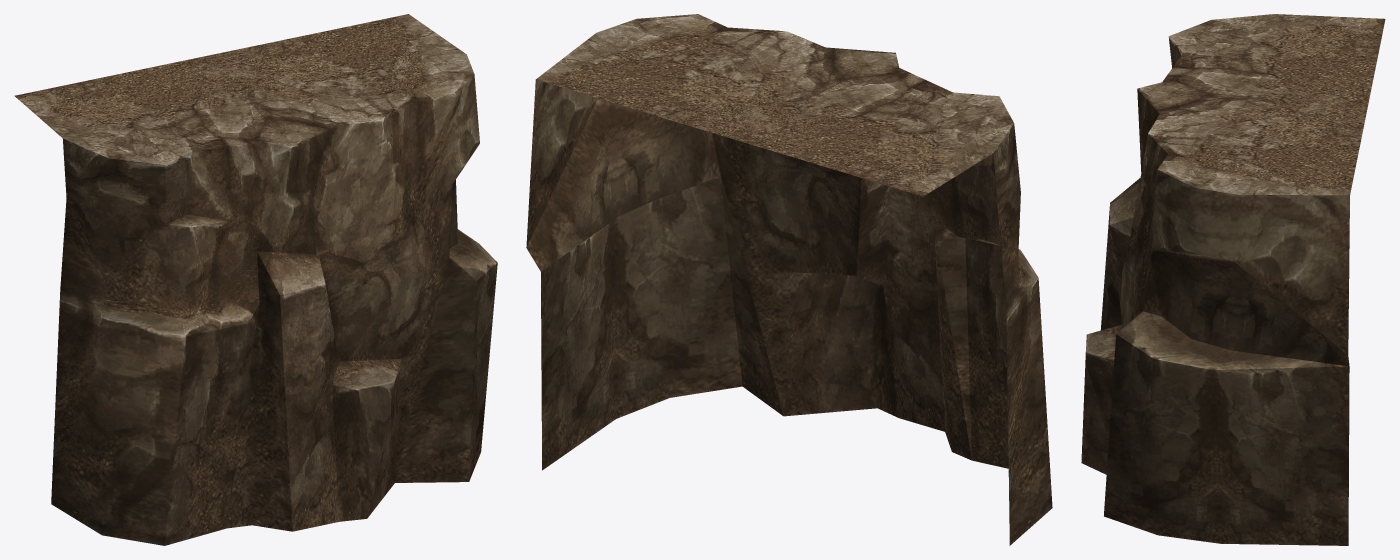
Rendered from SC_tamalagebi_shitou03.FBX.
3 views of the same model, side by side, from view 1: azimuth 30°, elevation 25°; view 2: azimuth 150°, elevation 25°; view 3: azimuth 270°, elevation 25° (orthographic). The views are drawn at different scales.
Parts seen in each view (by area): view 1: SC_tamalagebi_shitou03; view 2: SC_tamalagebi_shitou03; view 3: SC_tamalagebi_shitou03.
Part boxes in pixels (left/top/right/bottom): SC_tamalagebi_shitou03: left=14, top=14, right=497, bottom=545; SC_tamalagebi_shitou03: left=526, top=14, right=1052, bottom=545; SC_tamalagebi_shitou03: left=1081, top=14, right=1385, bottom=545.
Bounding box in the file's own units: 2419 × 2071 × 1598.
